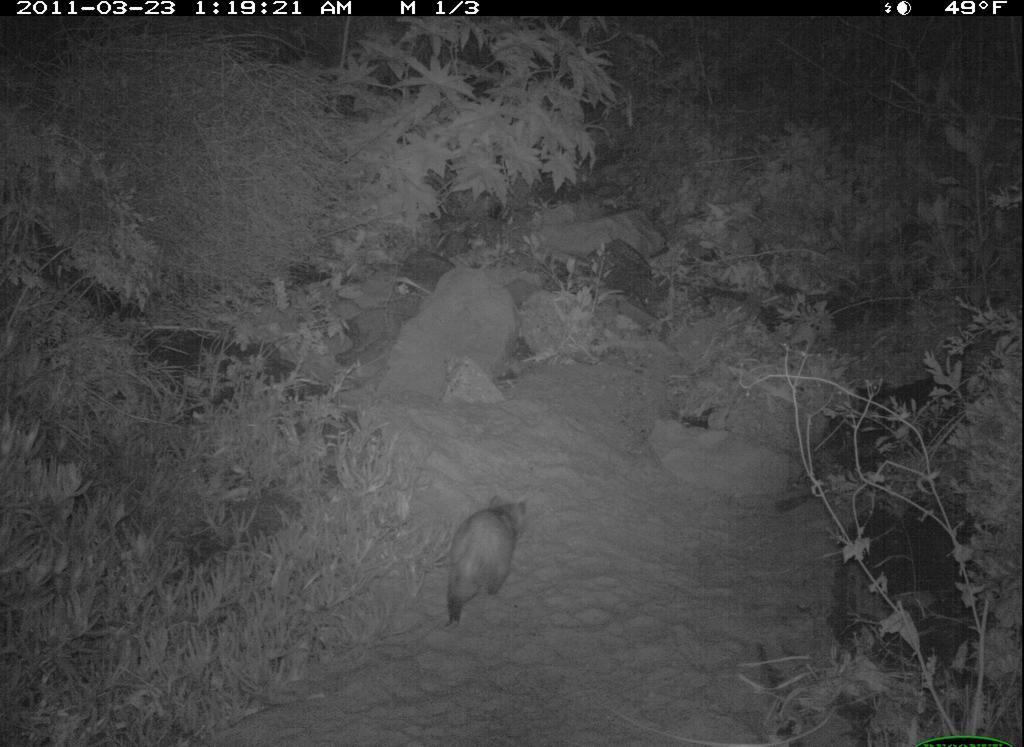opossum: (436, 487, 539, 633)
